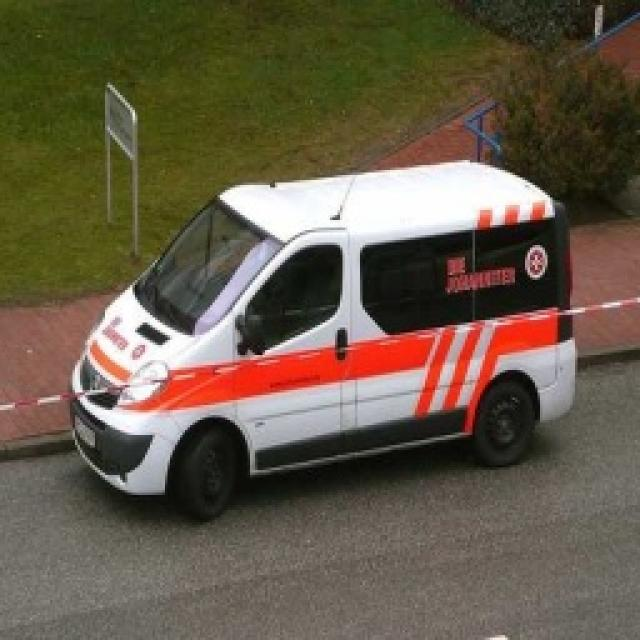emergency-vehicle: (103, 144, 640, 602)
